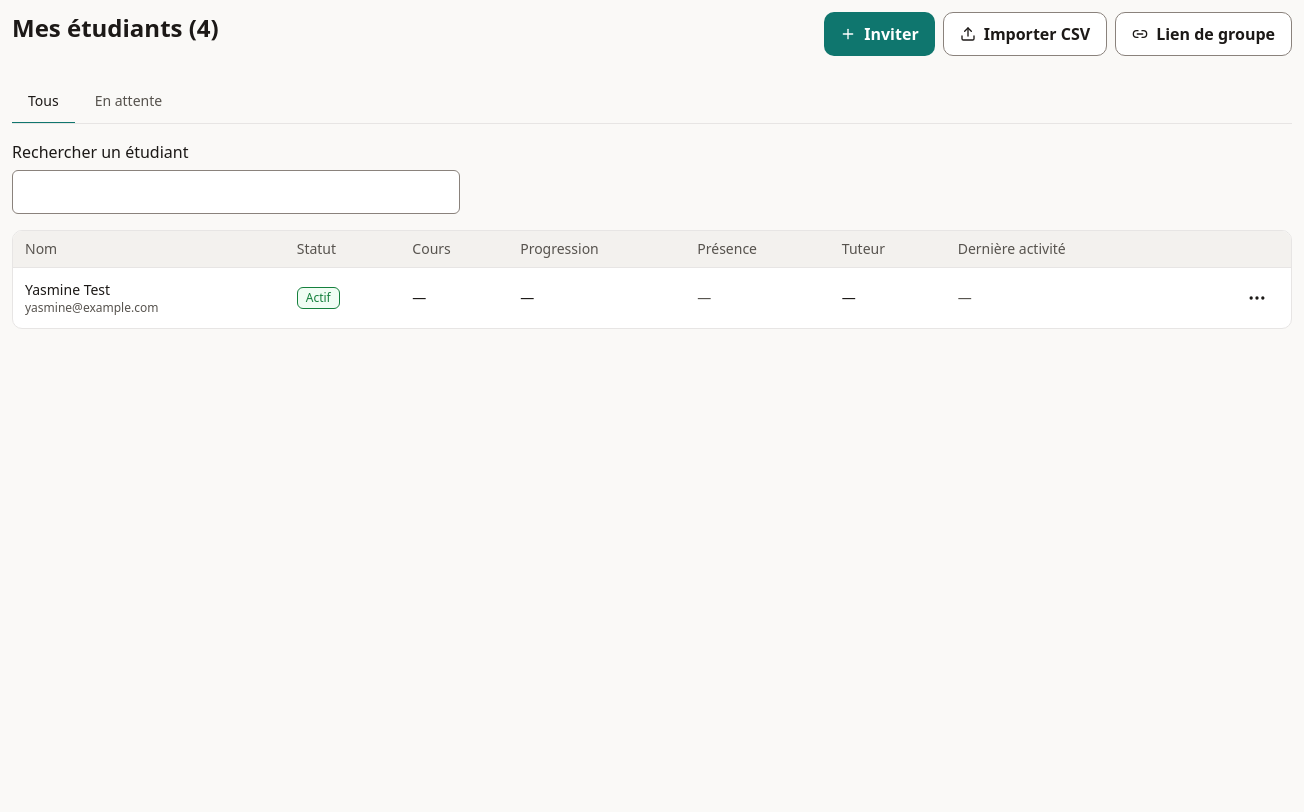
StudentsPanel › Tous lists the active students; En attente merges pending-status students and pending invitations
Expected: the text "Yasmine Test" is shown, x1=25 y1=280 x2=110 y2=299
Expected: the text "Omar Test" is not shown
Click the tab "En attente" at [128, 102], box x1=79 y1=80 x2=178 y2=124
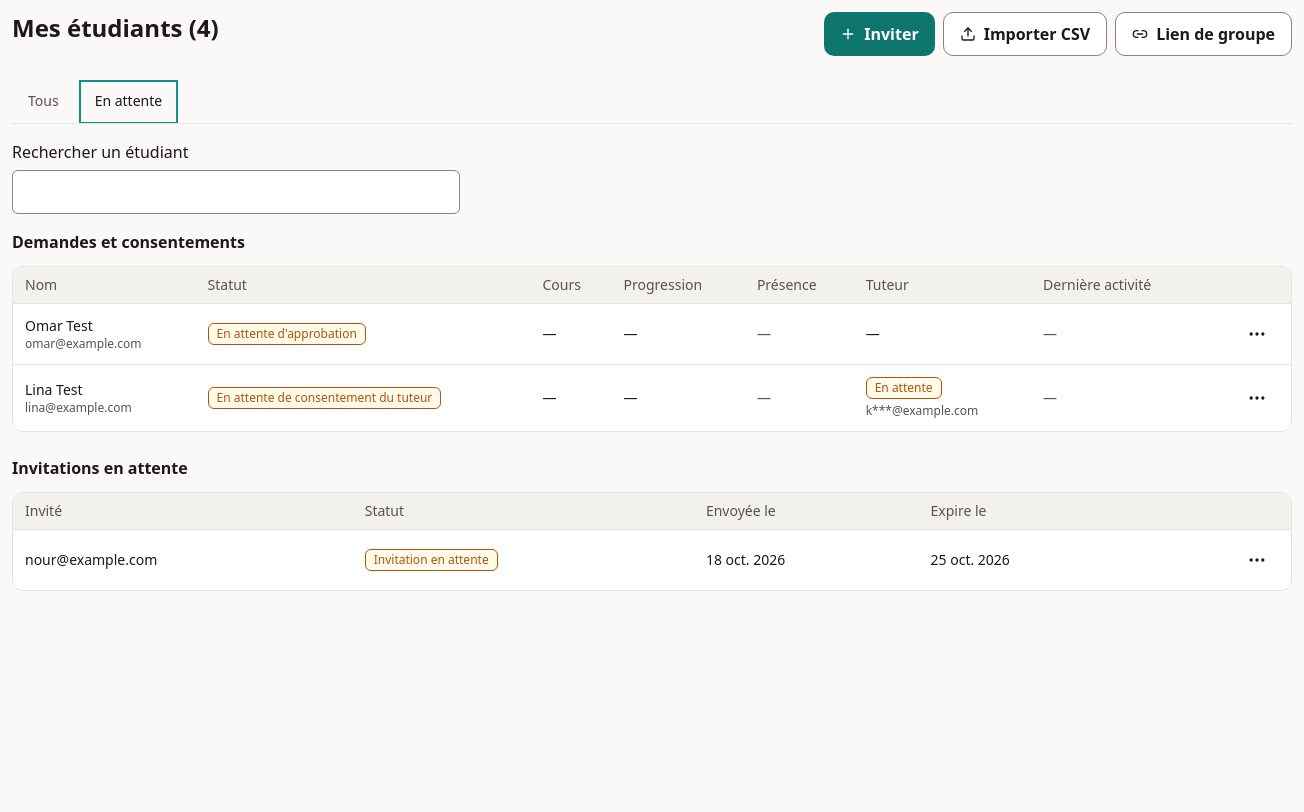
Result: the text "Omar Test" is shown at x1=25 y1=316 x2=93 y2=335
Result: the text "Lina Test" is shown at x1=25 y1=380 x2=83 y2=399
Result: the text "nour@example.com" is shown at x1=25 y1=550 x2=157 y2=569
